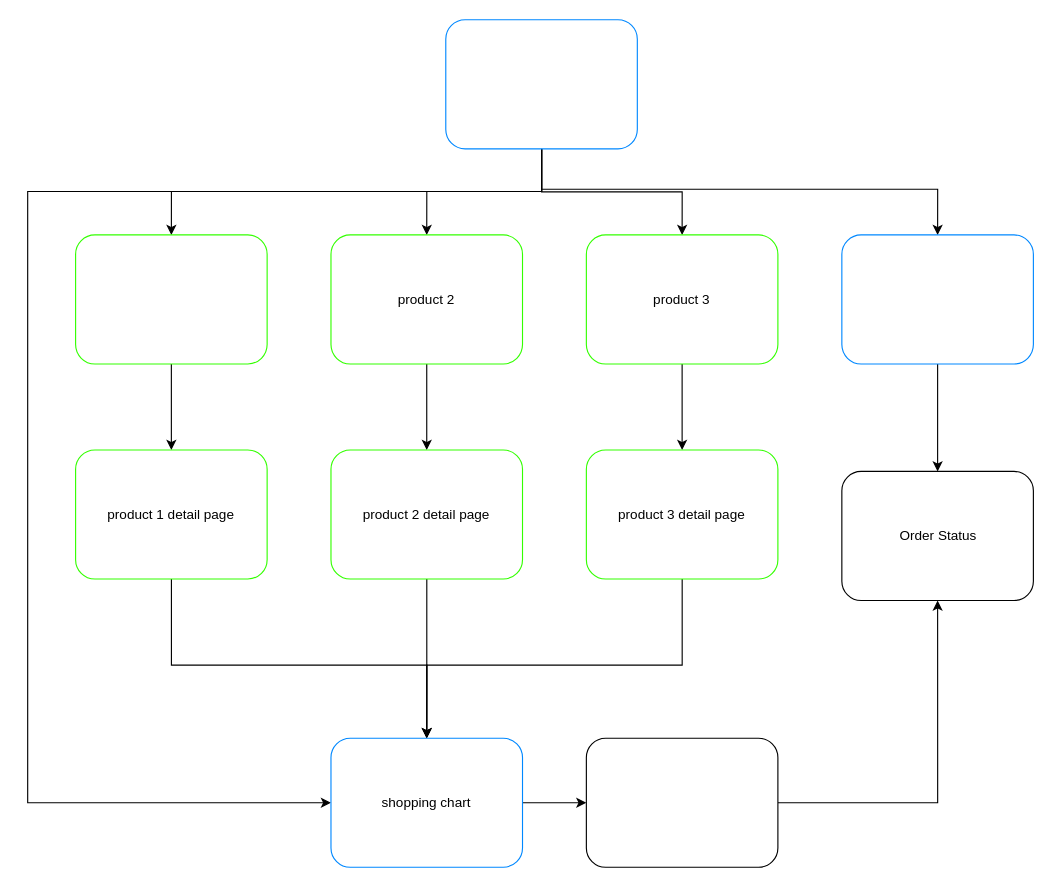
Image size: 1053x887. Some labels were removed from this diagram. The shapes that lost their labels are listed below. From the top down, each one's box as (x1, y1, x2, y2) in pixels, then its label:
(445, 19, 637, 149): katalog
(74, 234, 267, 364): product 1
(841, 234, 1033, 364): Your Account
(585, 737, 778, 867): Pembayaran
